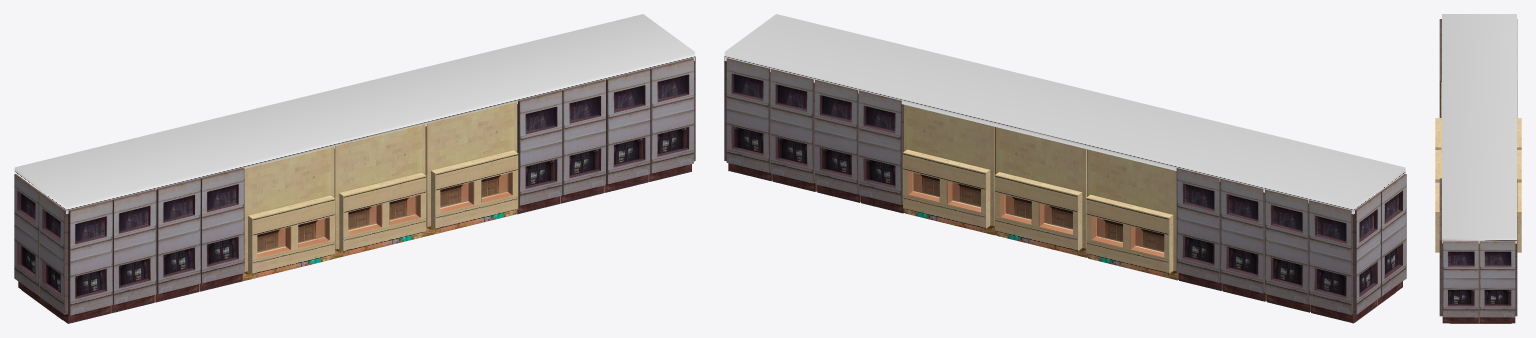
File: Doms ka Bachha.fbx
3 renders of one model, left to right at view 1: azimuth 30°, elevation 25°; view 2: azimuth 150°, elevation 25°; view 3: azimuth 270°, elevation 25°, orthographic. The views are drawn at different scales.
Visible parts, largest first — view 1: Cube, Screenshot 2025-03-31 011104.002, Screenshot 2025-03-31 011104.001, Screenshot 2025-03-31 011104, Screenshot 2025-03-31 003801.015, Screenshot 2025-03-31 003801.013, Screenshot 2025-03-31 003801.006, Screenshot 2025-03-31 003801.004, Screenshot 2025-03-31 003801.005, Screenshot 2025-03-31 003801.014, Screenshot 2025-03-31 003801.007, Screenshot 2025-03-31 003801.012 (+3 smaller); view 2: Cube, Screenshot 2025-03-31 011104.005, Screenshot 2025-03-31 011104.004, Screenshot 2025-03-31 011104.003, Screenshot 2025-03-31 003801.020, Screenshot 2025-03-31 003801.009, Screenshot 2025-03-31 003801.018, Screenshot 2025-03-31 003801.017, Screenshot 2025-03-31 003801.016, Screenshot 2025-03-31 003801.001, Screenshot 2025-03-31 003801.008, Screenshot 2025-03-31 003801.019 (+2 smaller); view 3: Cube, Screenshot 2025-03-31 003801.011, Screenshot 2025-03-31 003801.010, Screenshot 2025-03-31 011104.002, Screenshot 2025-03-31 011104.005, Screenshot 2025-03-31 003801.012, Screenshot 2025-03-31 011104, Screenshot 2025-03-31 011104.001, Screenshot 2025-03-31 003801.017, Plane, Screenshot 2025-03-31 011104.004, Screenshot 2025-03-31 011104.003 (+1 smaller).
Part boxes in pixels (left/top/right/bottom): Cube: left=14, top=14, right=694, bottom=213; Screenshot 2025-03-31 011104.002: left=426, top=101, right=518, bottom=235; Screenshot 2025-03-31 011104.001: left=334, top=124, right=426, bottom=258; Screenshot 2025-03-31 011104: left=243, top=146, right=334, bottom=280; Screenshot 2025-03-31 003801.015: left=517, top=90, right=562, bottom=214; Screenshot 2025-03-31 003801.013: left=605, top=69, right=650, bottom=192; Screenshot 2025-03-31 003801.006: left=156, top=178, right=200, bottom=302; Screenshot 2025-03-31 003801.004: left=68, top=200, right=112, bottom=323; Screenshot 2025-03-31 003801.005: left=111, top=189, right=156, bottom=312; Screenshot 2025-03-31 003801.014: left=561, top=79, right=605, bottom=203; Screenshot 2025-03-31 003801.007: left=200, top=168, right=244, bottom=291; Screenshot 2025-03-31 003801.012: left=649, top=58, right=693, bottom=181; Cube: left=724, top=14, right=1405, bottom=214; Screenshot 2025-03-31 011104.005: left=903, top=104, right=994, bottom=235; Screenshot 2025-03-31 011104.004: left=995, top=127, right=1086, bottom=257; Screenshot 2025-03-31 011104.003: left=1086, top=149, right=1177, bottom=280; Screenshot 2025-03-31 003801.020: left=858, top=90, right=903, bottom=213; Screenshot 2025-03-31 003801.009: left=1220, top=178, right=1265, bottom=301; Screenshot 2025-03-31 003801.018: left=770, top=69, right=815, bottom=191; Screenshot 2025-03-31 003801.017: left=726, top=58, right=771, bottom=181; Screenshot 2025-03-31 003801.016: left=1176, top=168, right=1221, bottom=290; Screenshot 2025-03-31 003801.001: left=1308, top=200, right=1352, bottom=322; Screenshot 2025-03-31 003801.008: left=1265, top=189, right=1309, bottom=312; Screenshot 2025-03-31 003801.019: left=815, top=79, right=859, bottom=202; Cube: left=1442, top=14, right=1516, bottom=243; Screenshot 2025-03-31 003801.011: left=1442, top=241, right=1478, bottom=323; Screenshot 2025-03-31 003801.010: left=1479, top=241, right=1515, bottom=323; Screenshot 2025-03-31 011104.002: left=1435, top=146, right=1441, bottom=252; Screenshot 2025-03-31 011104.005: left=1517, top=182, right=1521, bottom=252; Screenshot 2025-03-31 003801.012: left=1439, top=225, right=1442, bottom=316; Screenshot 2025-03-31 011104: left=1435, top=81, right=1441, bottom=149; Screenshot 2025-03-31 011104.001: left=1435, top=114, right=1441, bottom=182; Screenshot 2025-03-31 003801.017: left=1515, top=225, right=1517, bottom=316; Plane: left=1449, top=243, right=1511, bottom=323; Screenshot 2025-03-31 011104.004: left=1517, top=150, right=1521, bottom=182; Screenshot 2025-03-31 011104.003: left=1517, top=118, right=1521, bottom=149.
Bounding box in the file's own units: 4629 × 846 × 755.
3 materials, 3 textured.
